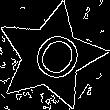O_SW: (19, 24, 83, 89)
